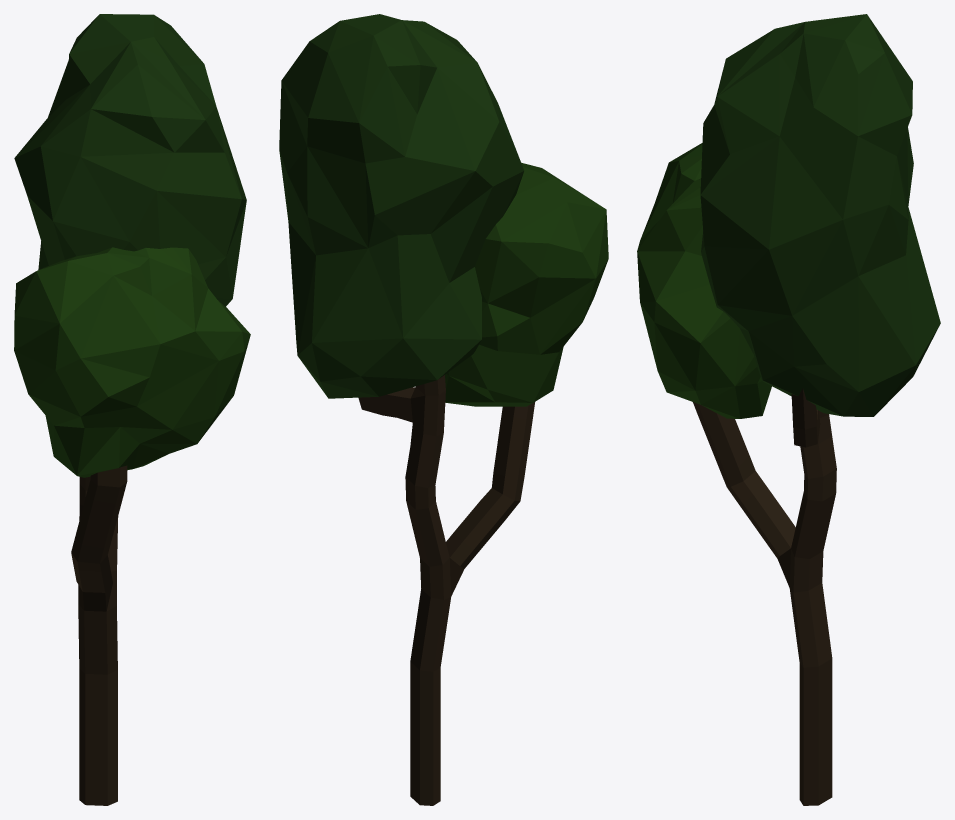
File: tree_001.glb
3 renders of one model, left to right at view 1: azimuth 30°, elevation 25°; view 2: azimuth 150°, elevation 25°; view 3: azimuth 270°, elevation 25°, orthographic. The views are drawn at different scales.
Parts seen in each view (by area): view 1: tree.001; view 2: tree.001; view 3: tree.001.
Part boxes in pixels (box(x1,y1,x2,y2)): tree.001: box(14, 14, 250, 805); tree.001: box(279, 14, 608, 805); tree.001: box(637, 14, 940, 805).
Bounding box in the file's own units: 2.57 × 7.31 × 2.52.
1 material, 1 textured.
